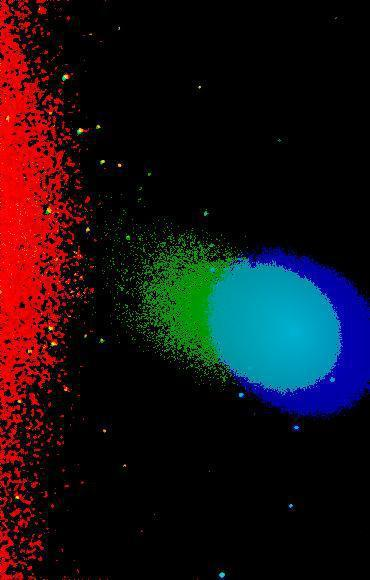star: (106, 150, 136, 180)
